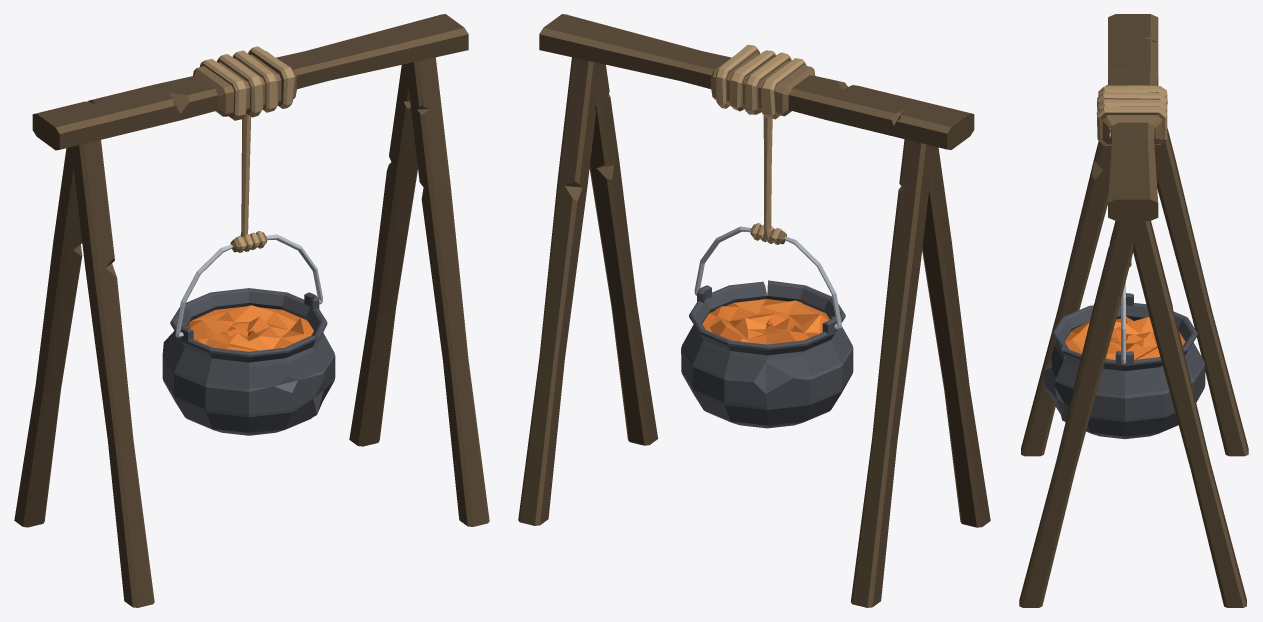
The model's file is WF_LP_HT_Props_Boiler.001.fbx.
3 views of the same model, side by side, from view 1: azimuth 30°, elevation 25°; view 2: azimuth 150°, elevation 25°; view 3: azimuth 270°, elevation 25° (orthographic). The views are drawn at different scales.
Visible parts, largest first — view 1: WF_LP_HT_Props_Boiler.001; view 2: WF_LP_HT_Props_Boiler.001; view 3: WF_LP_HT_Props_Boiler.001.
Boxes of the visible parts, x1=… form: WF_LP_HT_Props_Boiler.001: x1=14, y1=14, x2=489, y2=607; WF_LP_HT_Props_Boiler.001: x1=518, y1=14, x2=990, y2=607; WF_LP_HT_Props_Boiler.001: x1=1019, y1=14, x2=1248, y2=607.
Bounding box in the file's own units: 1.48 × 1.59 × 0.7696.
